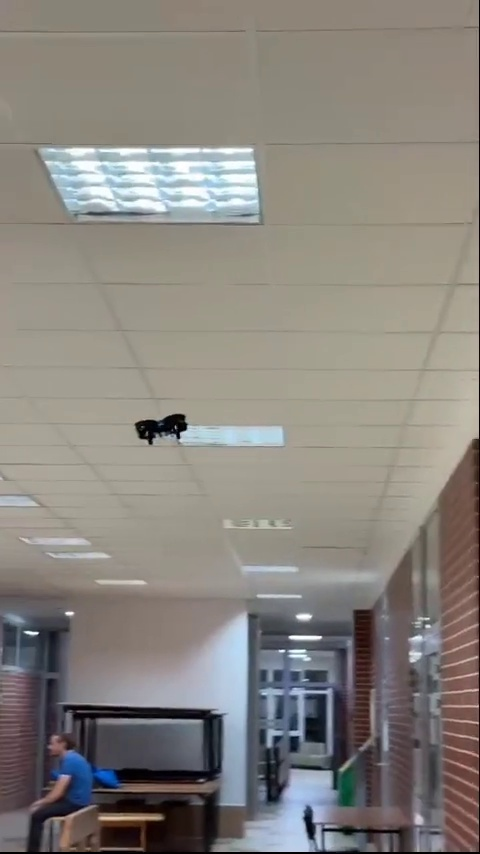drone: (135, 411, 187, 446)
no vest: (17, 728, 98, 814)
